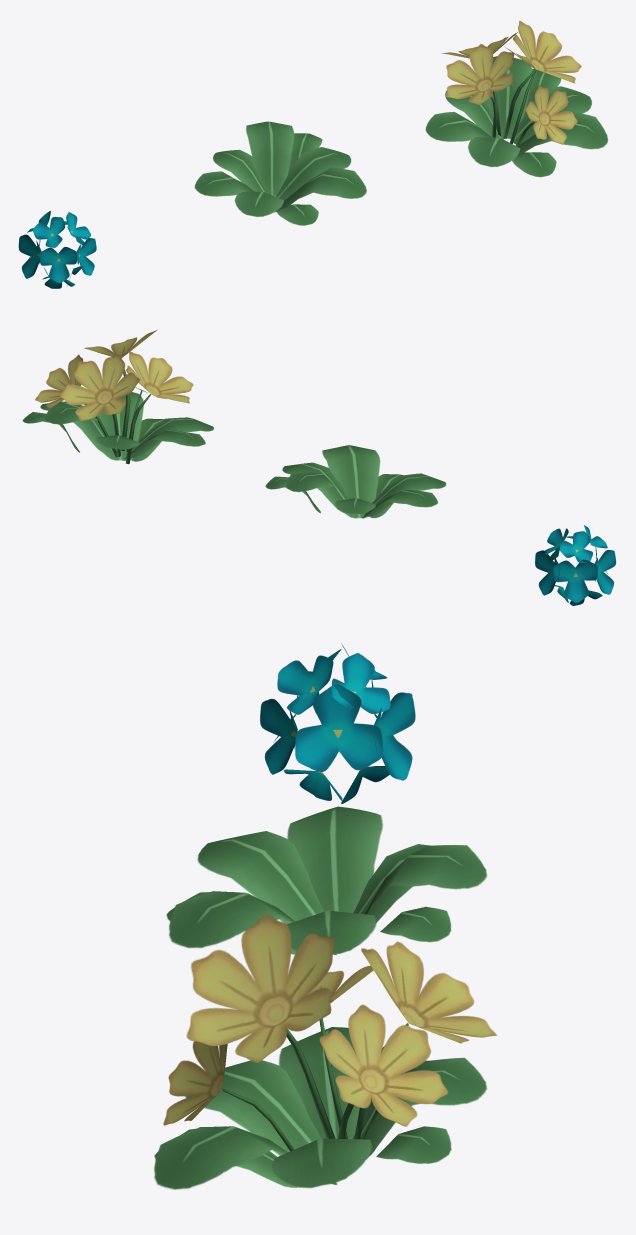
Rendered from flowerbush.glb.
The picture shows the model from 3 angles, top to bottom: view 1: azimuth 30°, elevation 25°; view 2: azimuth 150°, elevation 25°; view 3: azimuth 270°, elevation 25°; orthographic projection. The views are drawn at different scales.
Visible parts, largest first — view 1: Petals_1; view 2: Petals_1; view 3: Petals_1.
Boxes of the visible parts, x1,y1,x2,y2 form: Petals_1: (18,21,607,288); Petals_1: (22,330,615,605); Petals_1: (154,643,496,1189).
Bounding box in the file's own units: 5 × 1.34 × 1.53.
Materials: 1 (1 with a texture image).
